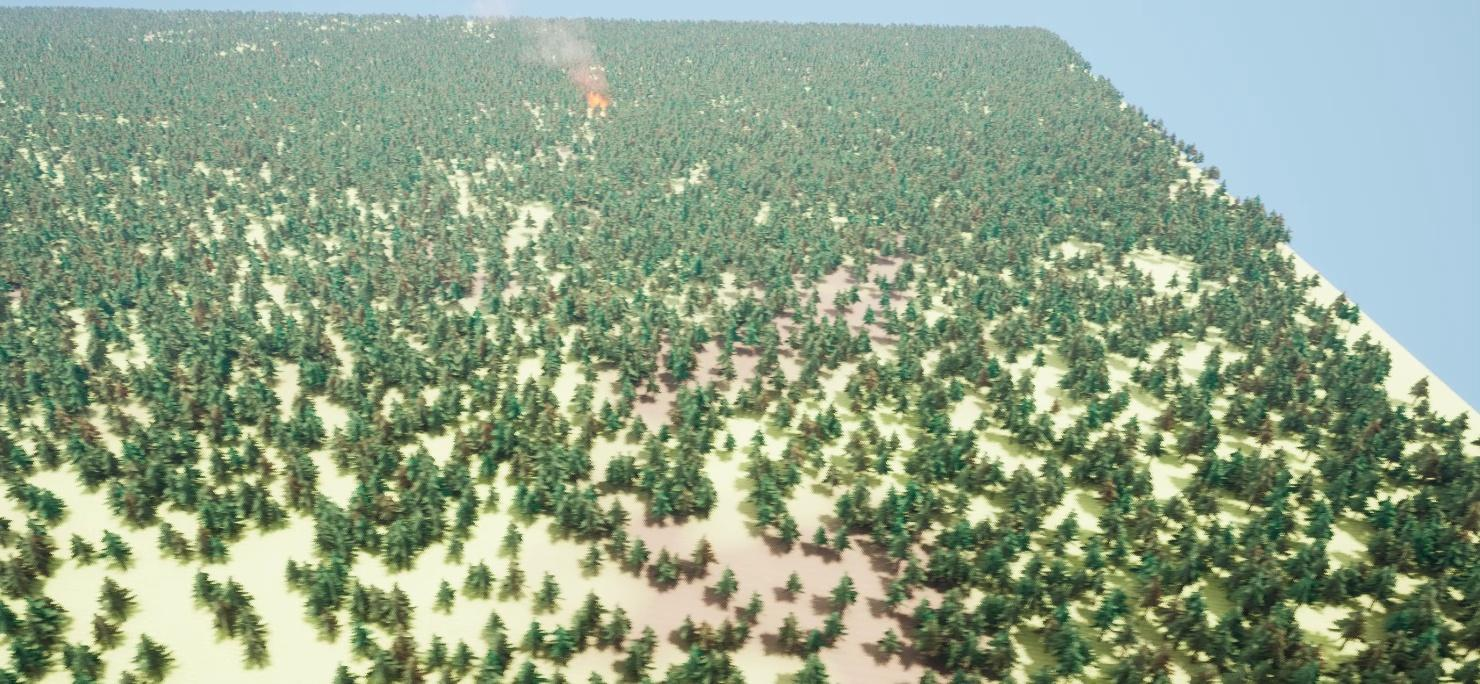fire: (584, 90, 610, 110)
smoke: (520, 11, 613, 95)
